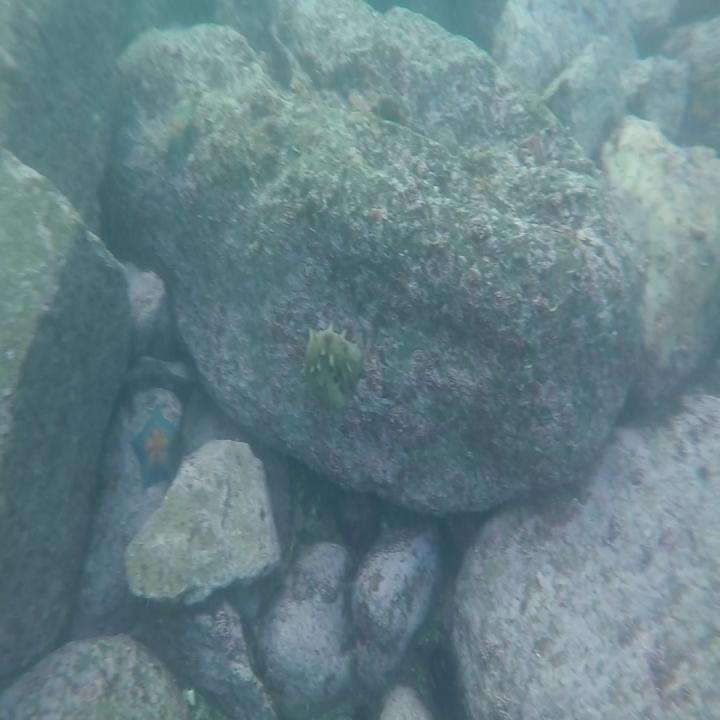echinus: (419, 645, 467, 720)
holothurian: (301, 320, 366, 405)
starfish: (129, 402, 188, 488)
